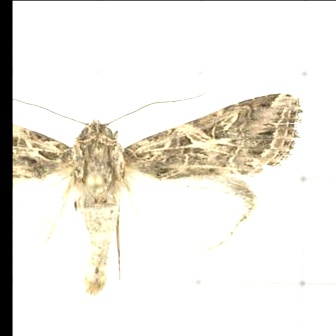Spodoptera litura: (12, 90, 303, 297)
